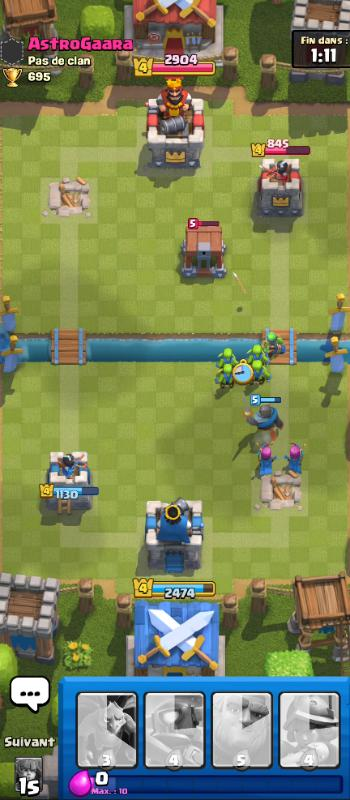archere: (249, 441, 279, 481), (281, 439, 310, 478)
chevalier: (241, 398, 285, 437)
gobelin: (244, 356, 271, 390), (243, 342, 271, 366), (217, 361, 235, 389), (217, 348, 241, 367)
gobelin_lances: (257, 329, 287, 361)
